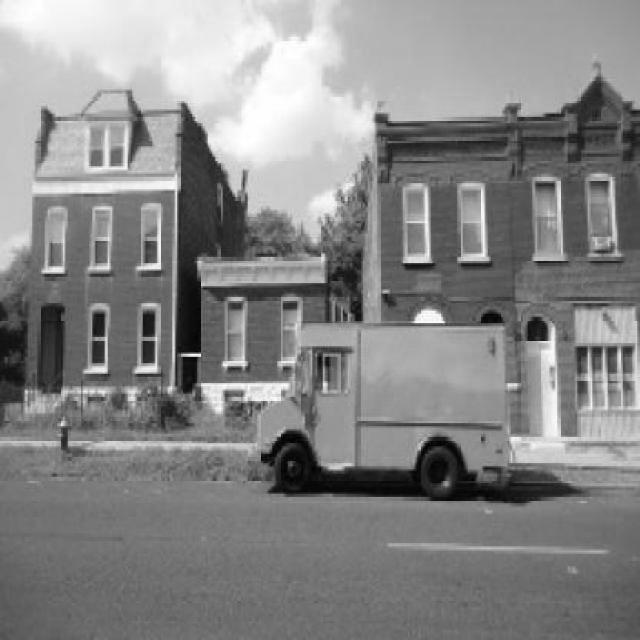Box Truck: (253, 323, 511, 500)
